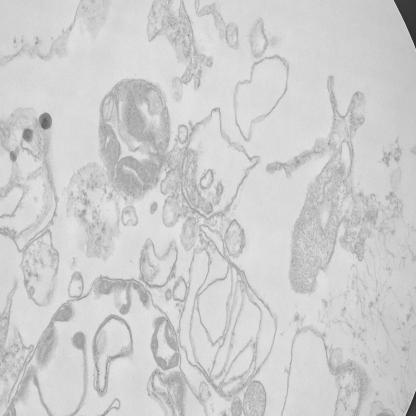mitochondria: (95, 70, 173, 198)
